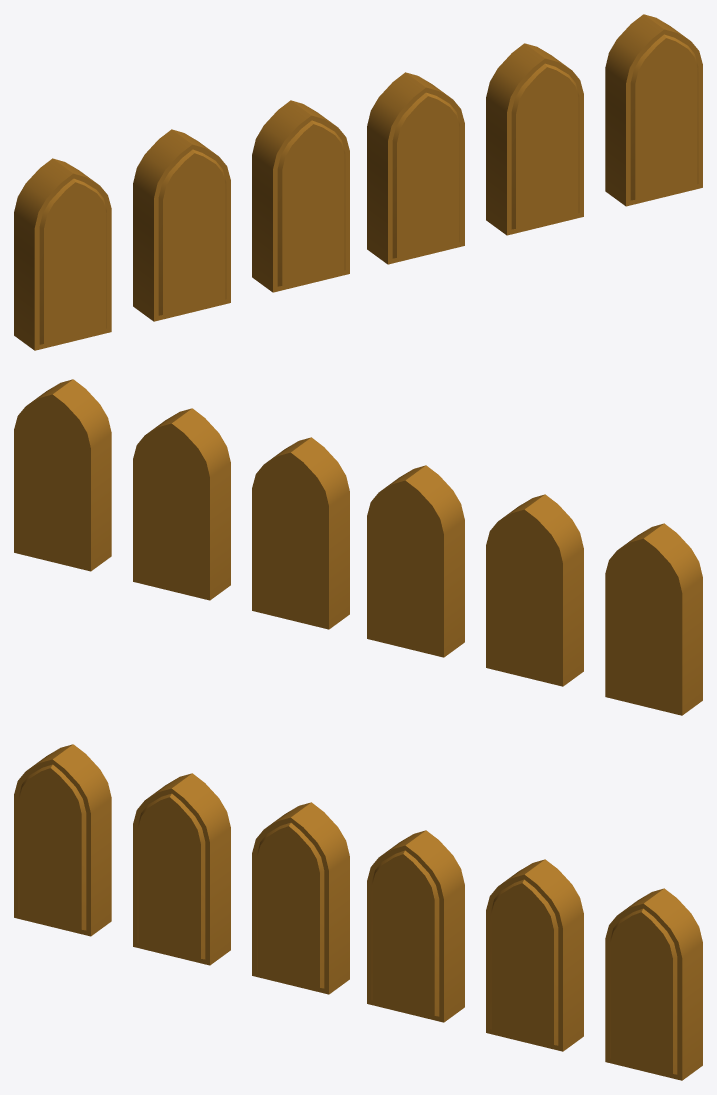
The model's file is SM_roof_cresting_02.fbx.
The picture shows the model from 3 angles, top to bottom: view 1: azimuth 30°, elevation 25°; view 2: azimuth 150°, elevation 25°; view 3: azimuth 330°, elevation 25°; orthographic projection.
Visible parts, largest first — view 1: Object33035; view 2: Object33035; view 3: Object33035.
Boxes of the visible parts, x1=… form: Object33035: x1=14, y1=14, x2=702, y2=350; Object33035: x1=14, y1=379, x2=702, y2=715; Object33035: x1=14, y1=744, x2=702, y2=1080.
Bounding box in the file's own units: 197 × 47.34 × 11.67.
